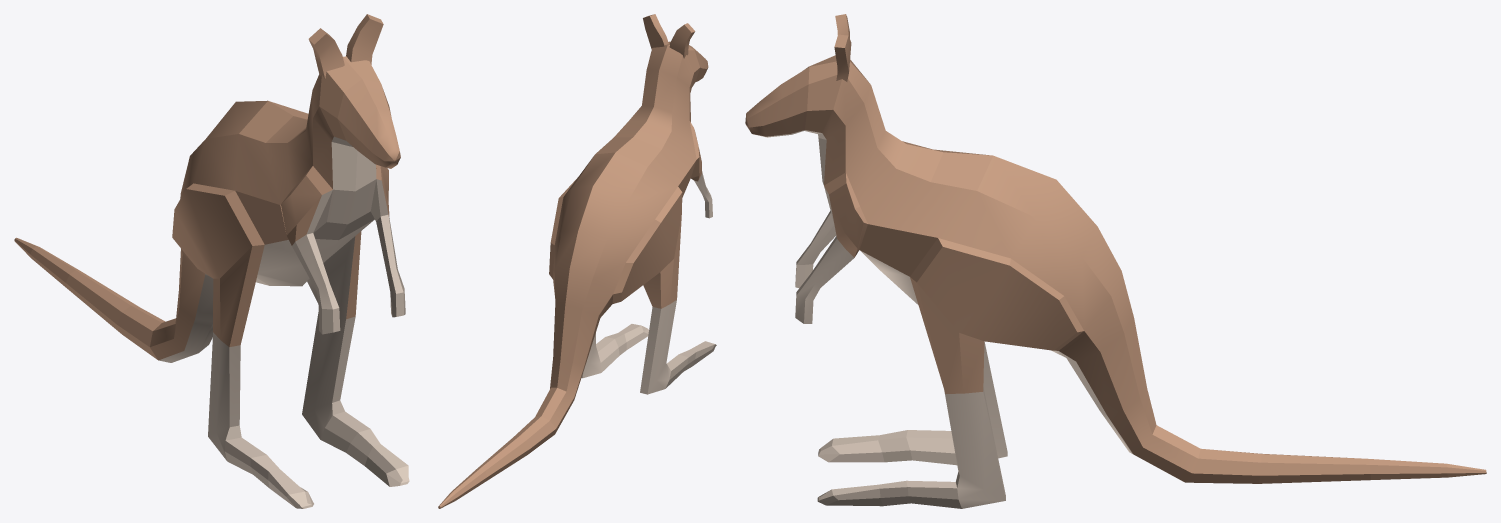
File: Kangaroo.fbx
The picture shows the model from 3 angles, left to right: view 1: azimuth 30°, elevation 25°; view 2: azimuth 150°, elevation 25°; view 3: azimuth 270°, elevation 25°; orthographic projection. The views are drawn at different scales.
Visible parts, largest first — view 1: Kangaroo, Ear2, Ear1; view 2: Kangaroo, Ear2, Ear1; view 3: Kangaroo.
Part boxes in pixels (box(x1,y1,x2,y2)): Kangaroo: box(14, 56, 409, 508); Ear2: box(346, 14, 383, 64); Ear1: box(308, 28, 344, 78); Kangaroo: box(438, 41, 716, 508); Ear2: box(643, 14, 668, 49); Ear1: box(669, 23, 695, 58); Kangaroo: box(745, 55, 1486, 508).
Size of the model in its own units: 3.31 by 10.18 by 14.85.
